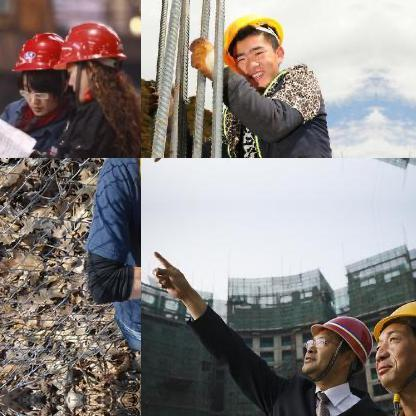Helmet: (216, 5, 292, 86), (300, 303, 374, 384), (58, 16, 126, 104), (9, 27, 73, 113), (366, 286, 415, 398)
